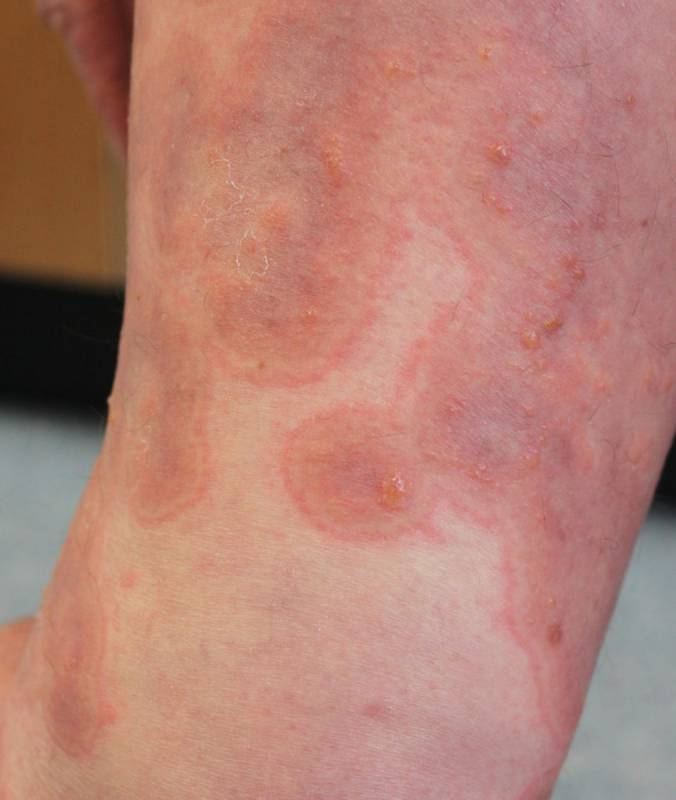Pemphigoid: (190, 38, 605, 643)
